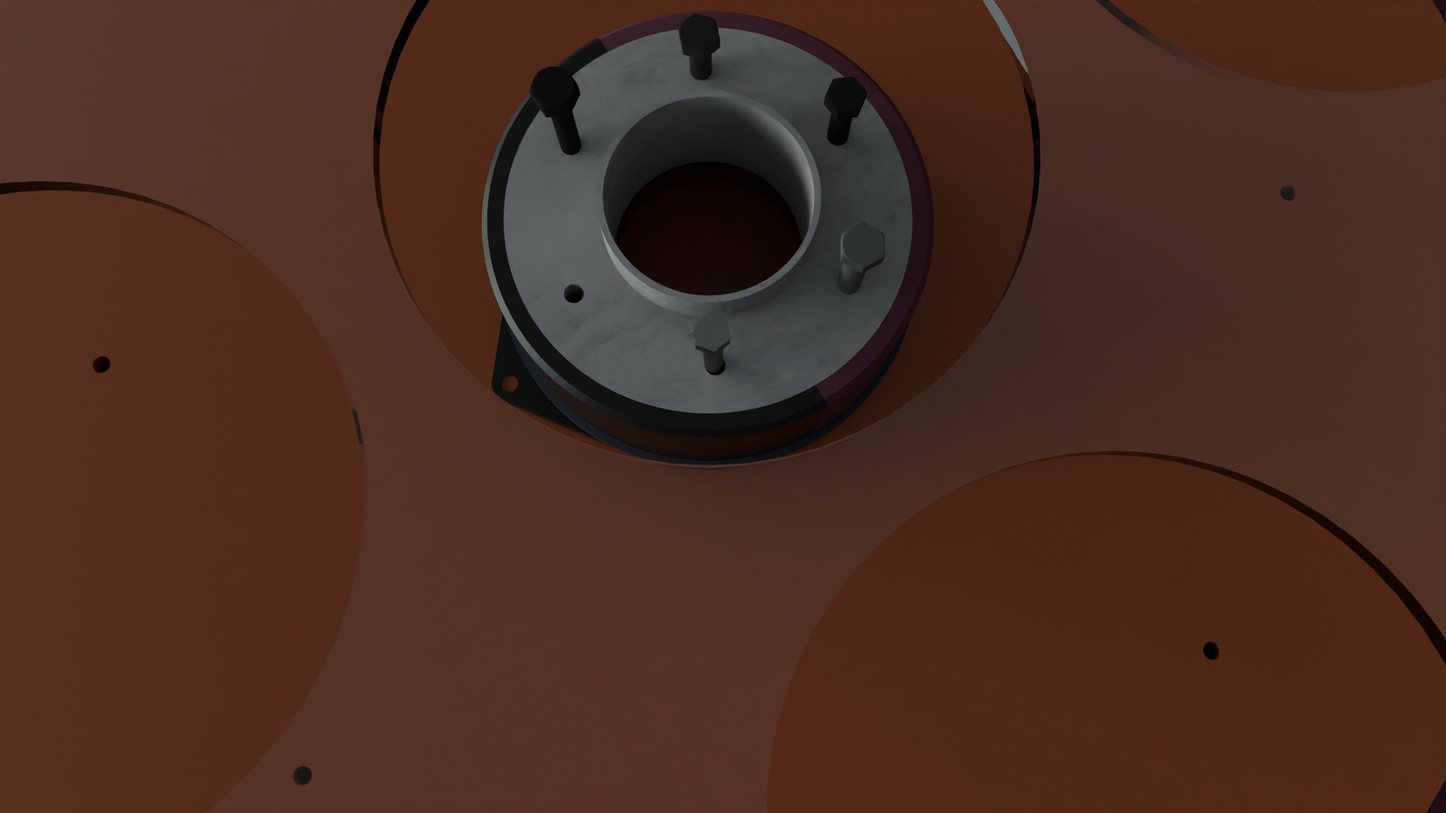bolt: (529, 66, 578, 109), (843, 222, 885, 268), (678, 14, 720, 53), (825, 77, 867, 112), (692, 314, 730, 352)
